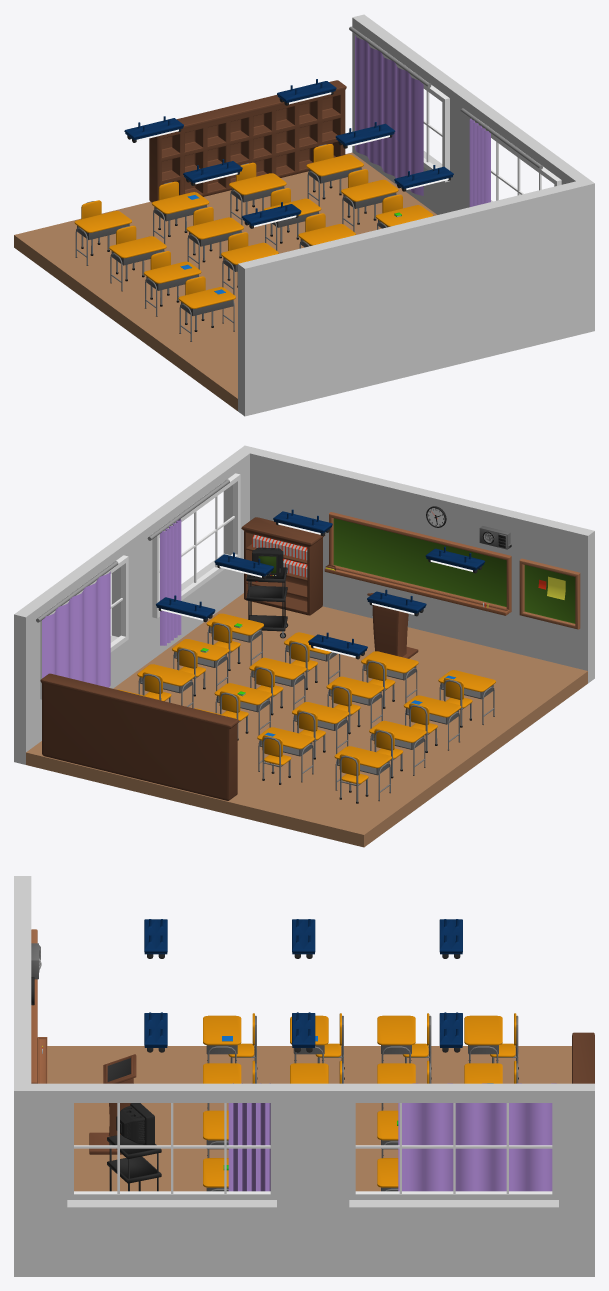
The model's file is classroom.glb.
The picture shows the model from 3 angles, top to bottom: view 1: azimuth 30°, elevation 25°; view 2: azimuth 150°, elevation 25°; view 3: azimuth 270°, elevation 25°; orthographic projection. The views are drawn at different scales.
Visible parts, largest first — view 1: Object_52, Object_18, Object_23, Object_45, Object_19, Object_25, Object_47, Object_26; view 2: Object_52, Object_23, Object_18, Object_4, Object_19, Object_45, Object_25, Object_21, Object_6, Object_47, Object_33, Object_31 (+3 smaller); view 3: Object_52, Object_45, Object_18, Object_25, Object_47, Object_19, Object_33, Object_31, Object_23, Object_4.
Part boxes in pixels (box(x1,y1,x2,y2)): Object_52: box(14, 14, 594, 416); Object_18: box(74, 144, 433, 341); Object_23: box(149, 80, 346, 202); Object_45: box(355, 35, 423, 195); Object_19: box(75, 144, 396, 341); Object_25: box(124, 79, 453, 228); Object_47: box(469, 118, 490, 206); Object_26: box(136, 92, 448, 227); Object_52: box(14, 445, 594, 847); Object_23: box(40, 673, 239, 800); Object_18: box(117, 613, 495, 803); Object_4: box(324, 512, 511, 615); Object_19: box(138, 623, 494, 802); Object_45: box(42, 571, 110, 687); Object_25: box(156, 509, 485, 659); Object_21: box(241, 517, 325, 615); Object_6: box(519, 558, 580, 629); Object_47: box(160, 518, 181, 645); Object_33: box(246, 547, 288, 638); Object_31: box(367, 593, 418, 658); Object_52: box(14, 876, 594, 1276); Object_45: box(398, 1083, 556, 1191); Object_18: box(203, 1013, 518, 1187); Object_25: box(144, 919, 462, 1052); Object_47: box(228, 1083, 270, 1191); Object_19: box(206, 1015, 518, 1191); Object_33: box(107, 1103, 161, 1183); Object_31: box(89, 1054, 136, 1154); Object_23: box(572, 1032, 594, 1083); Object_4: box(31, 979, 47, 1083).
Size of the model in its own units: 8.78 by 3.54 by 10.03.
Materials: 3 (2 with a texture image).
